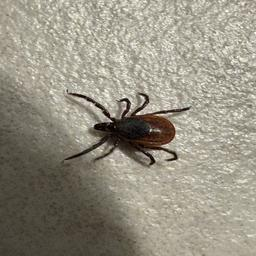Ixodes scapularis: (60, 92, 192, 167)
